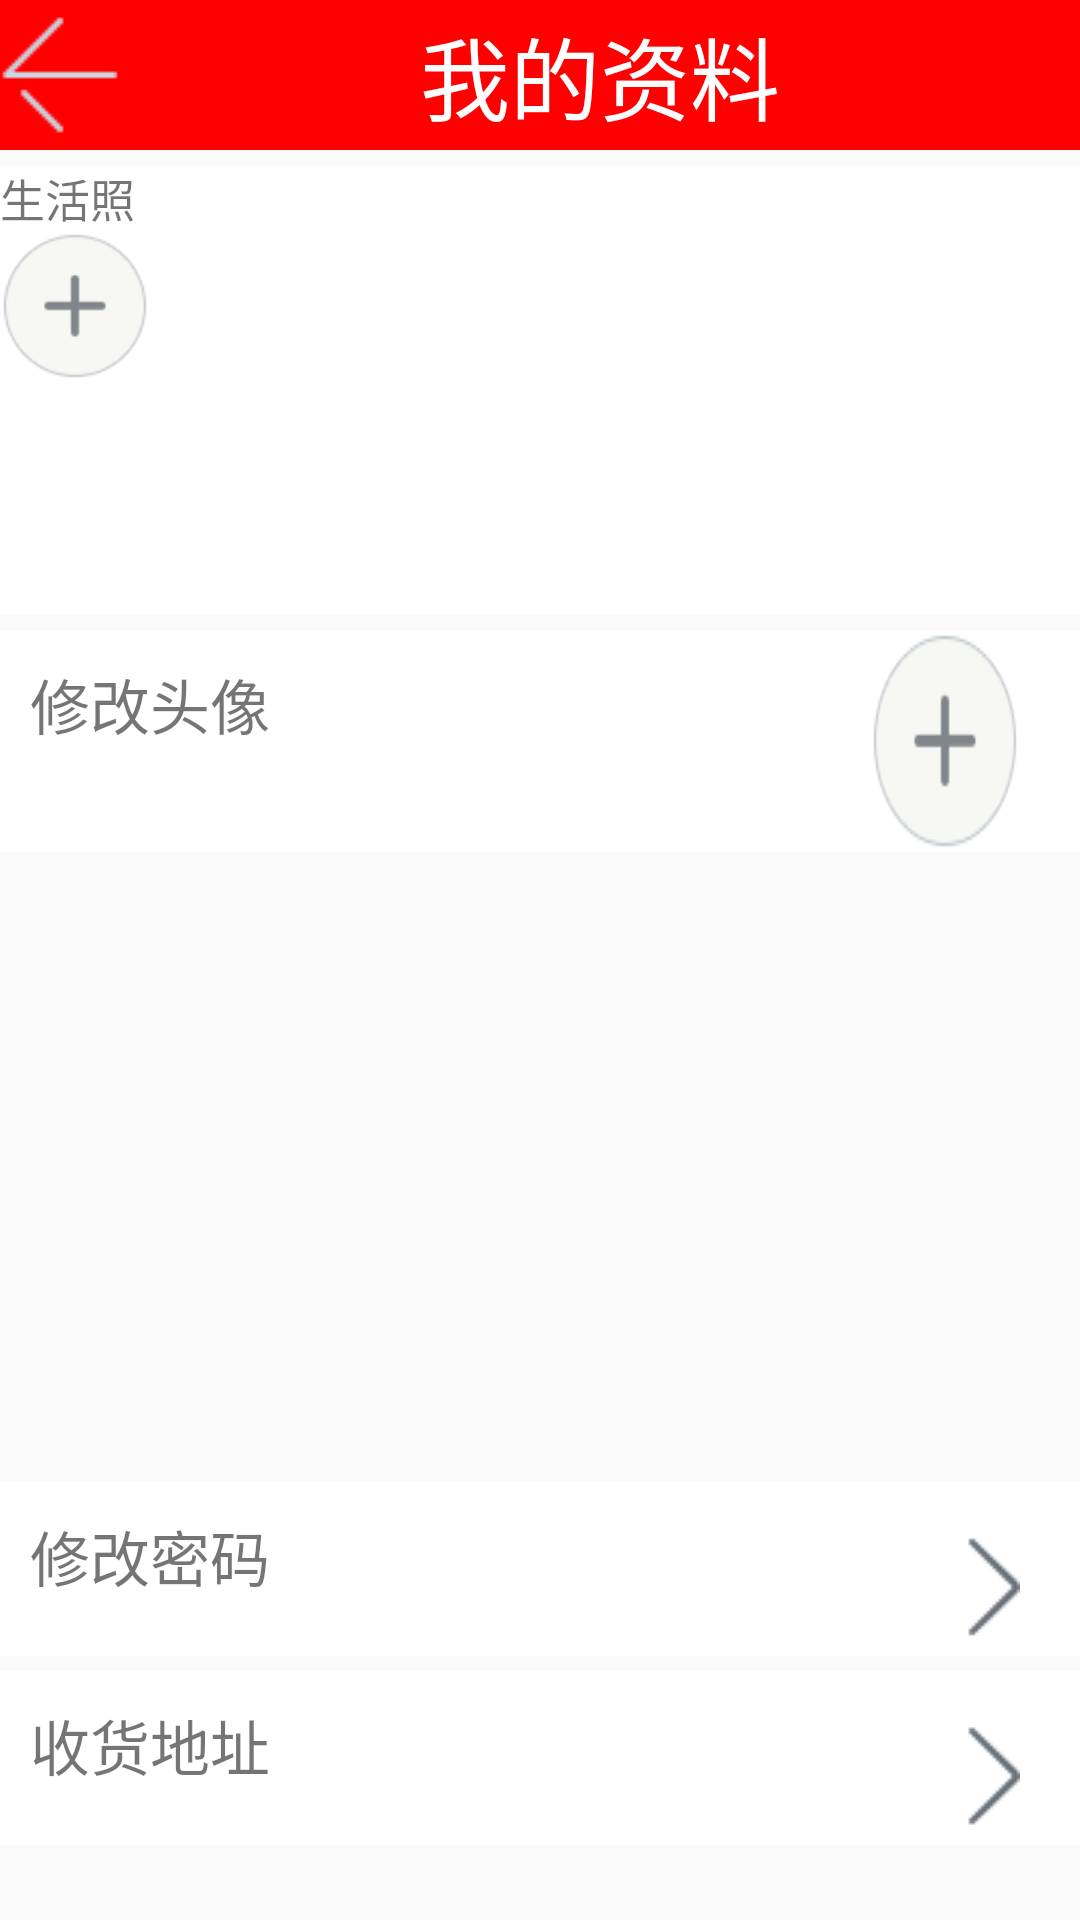

Where to tap for icons on this 1080 x 1920 app screen, as (x=x, y=y):
back on: (x=60, y=75)
profile selsctor: (x=75, y=306), (x=945, y=741)
right arrow: (x=994, y=1587), (x=994, y=1776)
